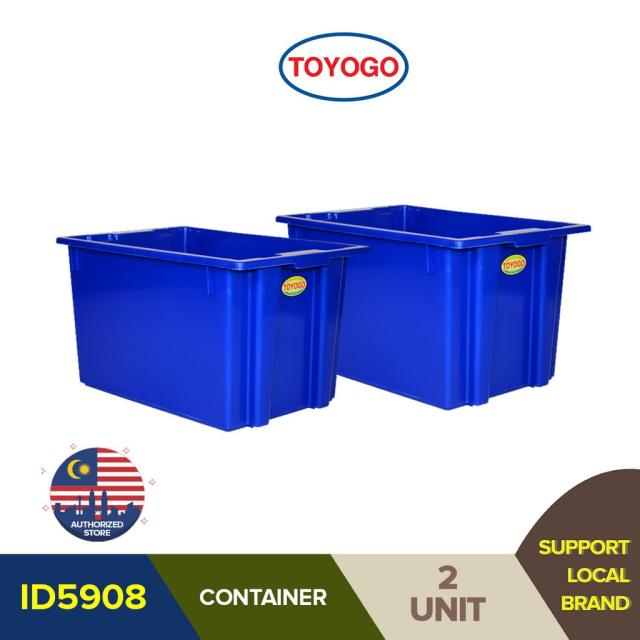basket: (258, 191, 591, 423), (39, 213, 368, 444)
